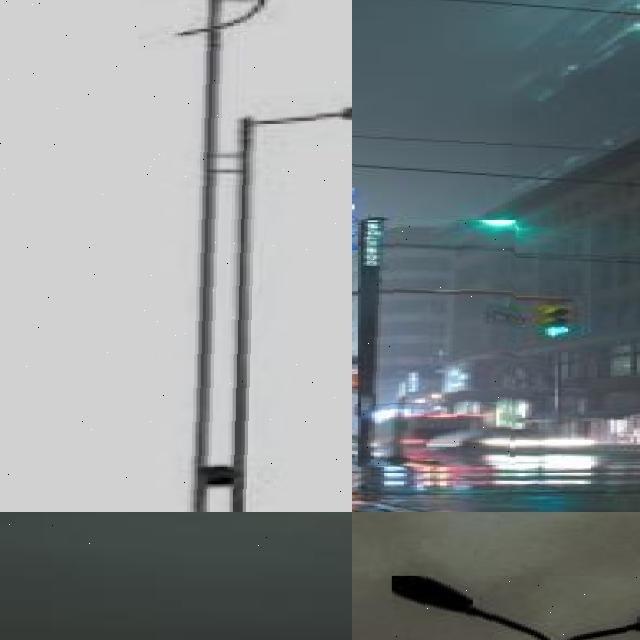street light: (0, 0, 352, 512), (361, 220, 517, 467), (392, 576, 640, 640), (0, 512, 352, 547), (502, 355, 570, 442)
